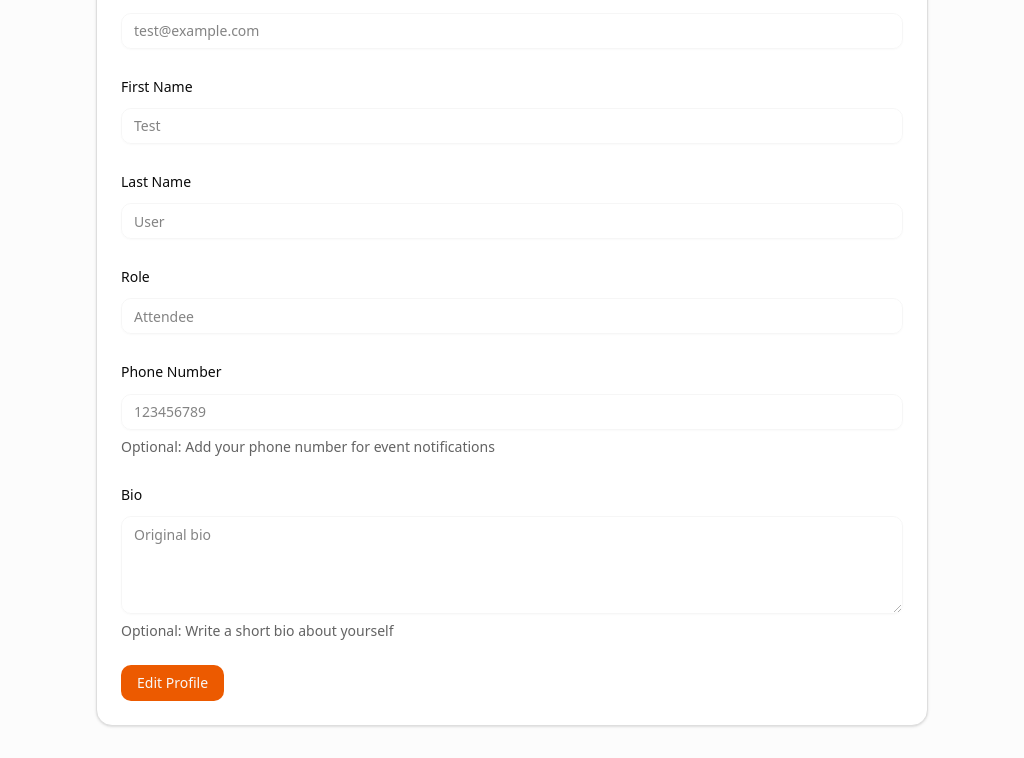
Profile Page › Edit functionality › should enable edit mode when Edit button is clicked
(page scrolled)
Click the button "Edit Profile" at point(173, 683), box left=121, top=665, right=224, bottom=701
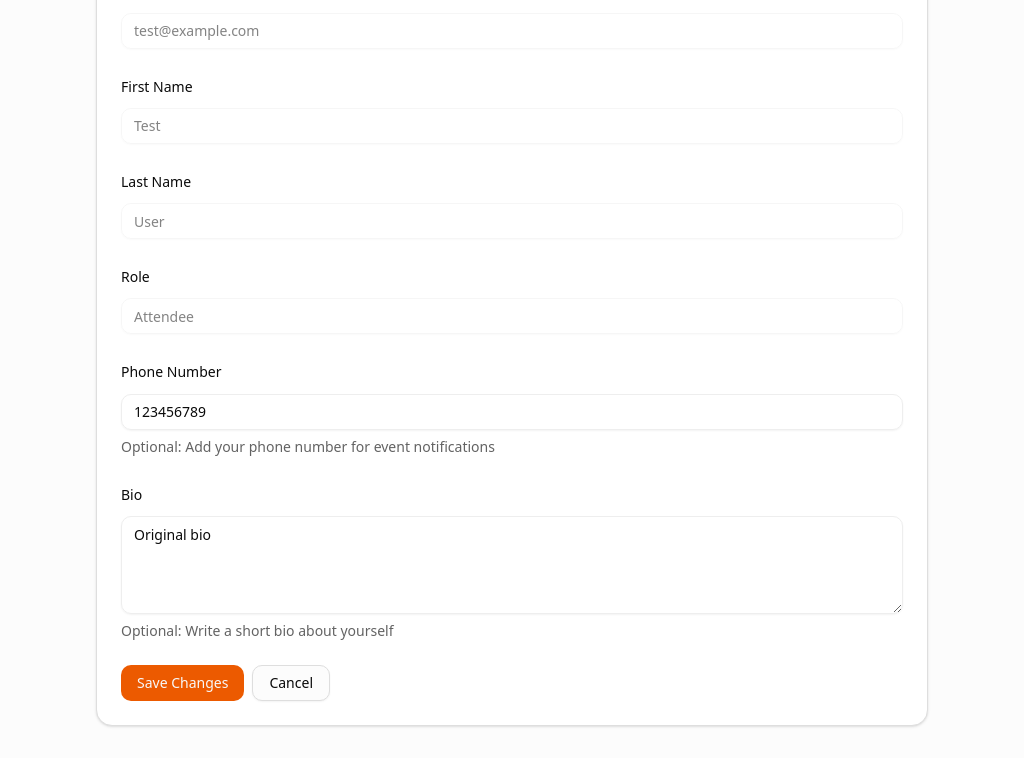
Expected: the button "Save Changes" is shown, left=121, top=665, right=244, bottom=701
Expected: the button "Cancel" is shown, left=252, top=665, right=330, bottom=701
